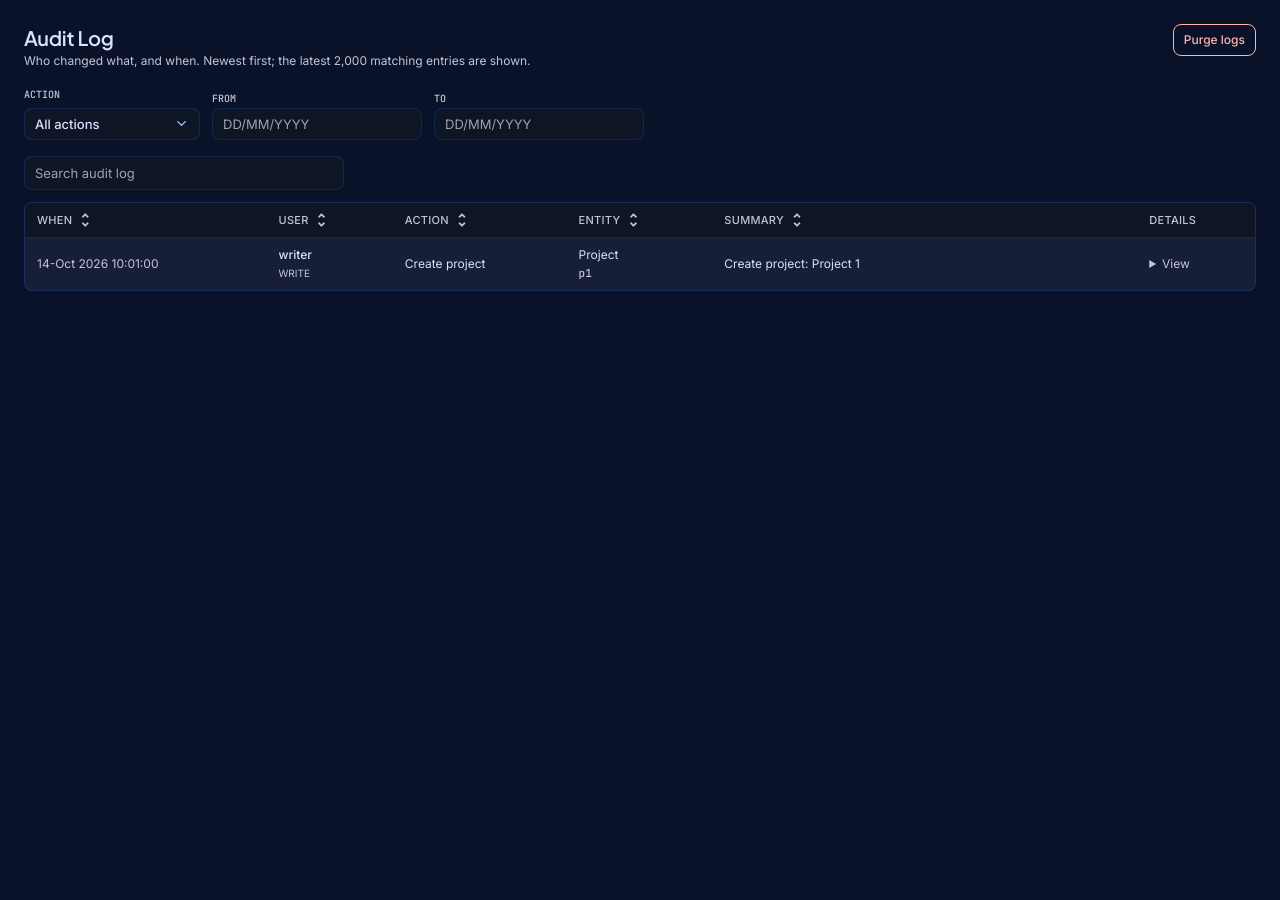
Test: AuditLogPage › purges the dates chosen in the dialog
Check: the text "Create project: Project 1" is shown, box [712,238,1137,290]
Click the button "Purge logs" at (1214,40), box [1173,24,1256,56]
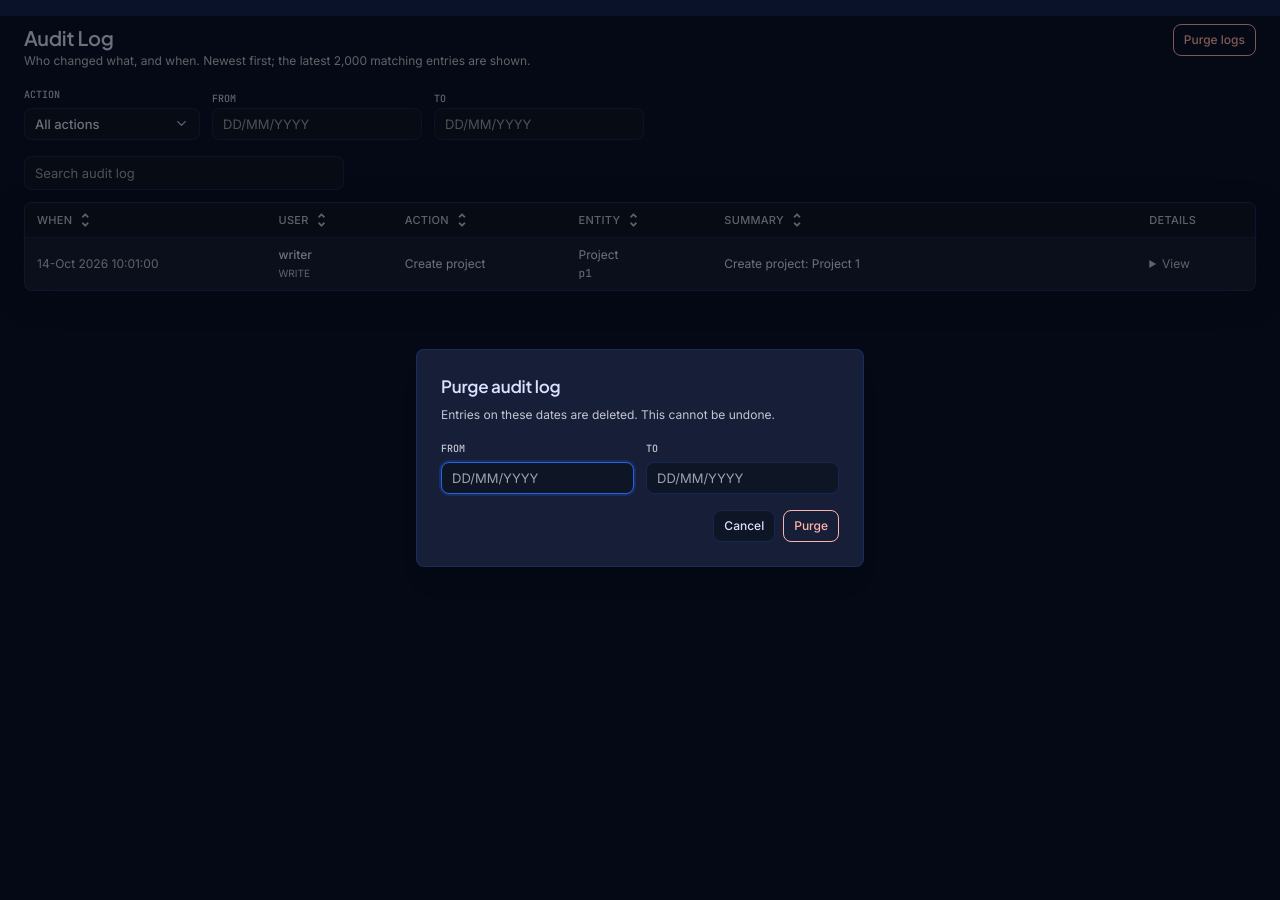
Click the button "Purge" at (811,526), box [783,510,839,542]
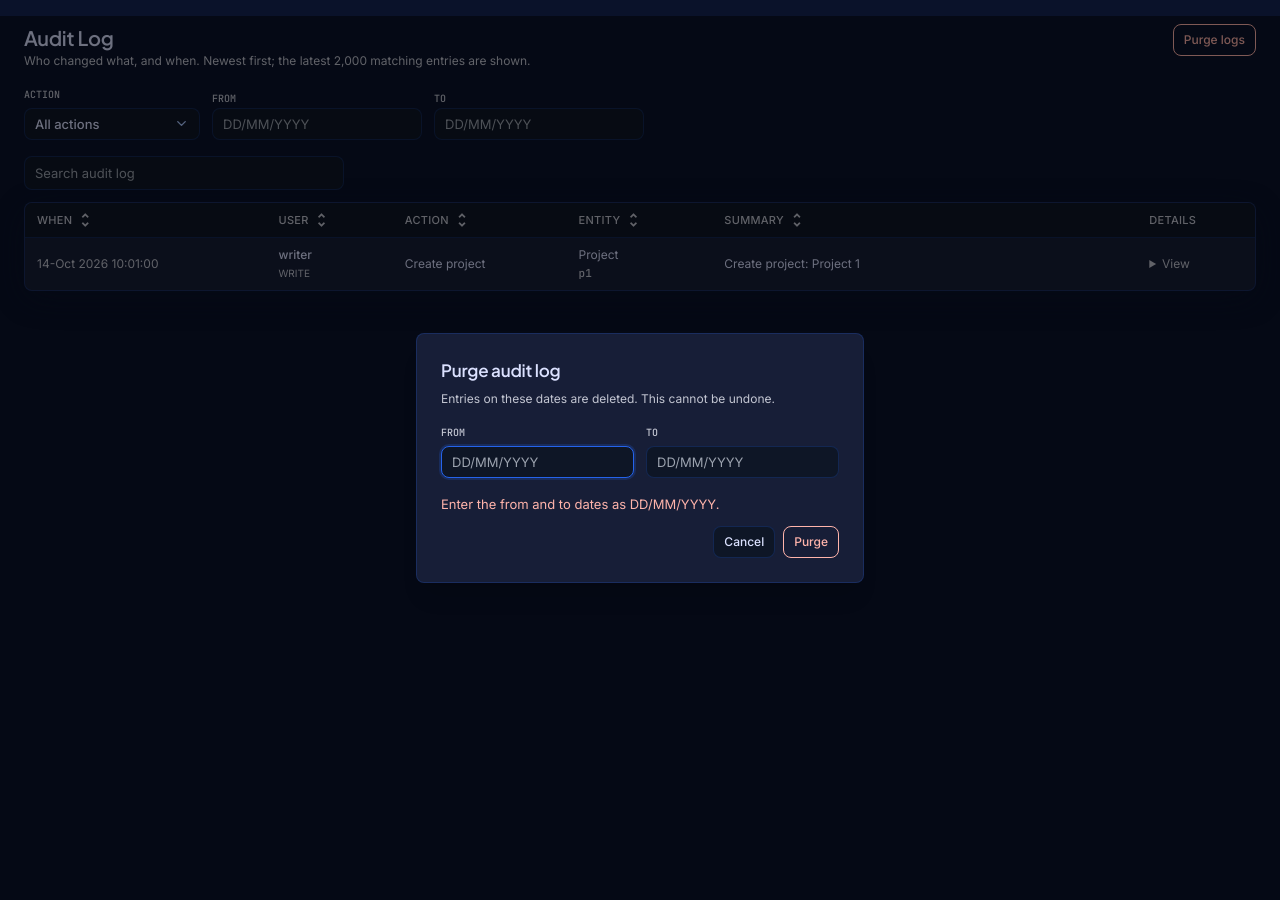
Check: the text "Enter the from and to dates as DD/MM/YYYY." is shown, box [441,496,719,512]
Type "14/10/2026" into the field named "Purge from" at (538,462), box [441,446,634,478]
Type "01/10/2026" into the field named "Purge to" at (742,462), box [646,446,839,478]
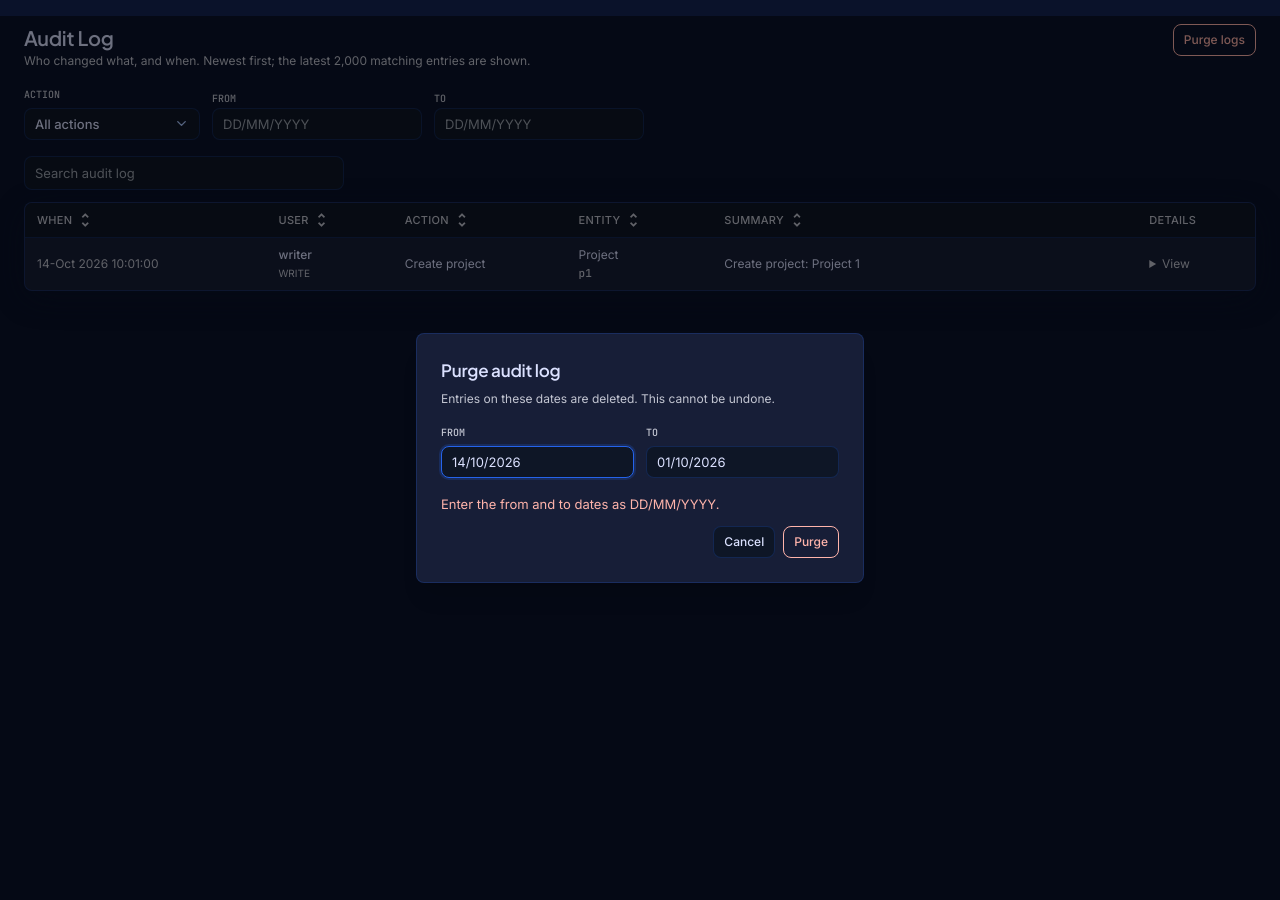
Click the button "Purge" at (811,542), box [783,526,839,558]
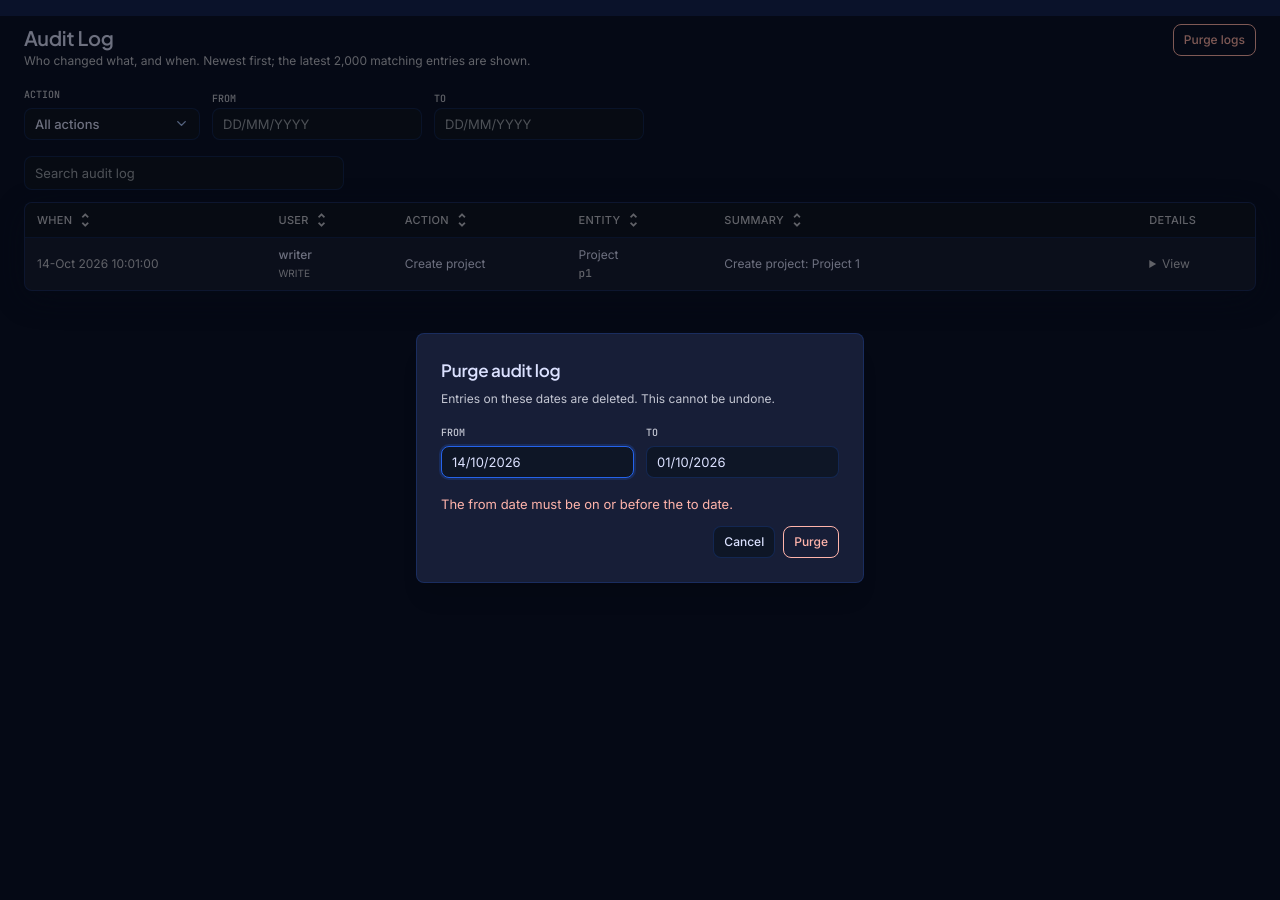
Check: the text "The from date must be on or before the to date." is shown, box [441,496,733,512]
Replace the text in the field named "Purge to" with "14/10/2026" at (742,462), box [646,446,839,478]
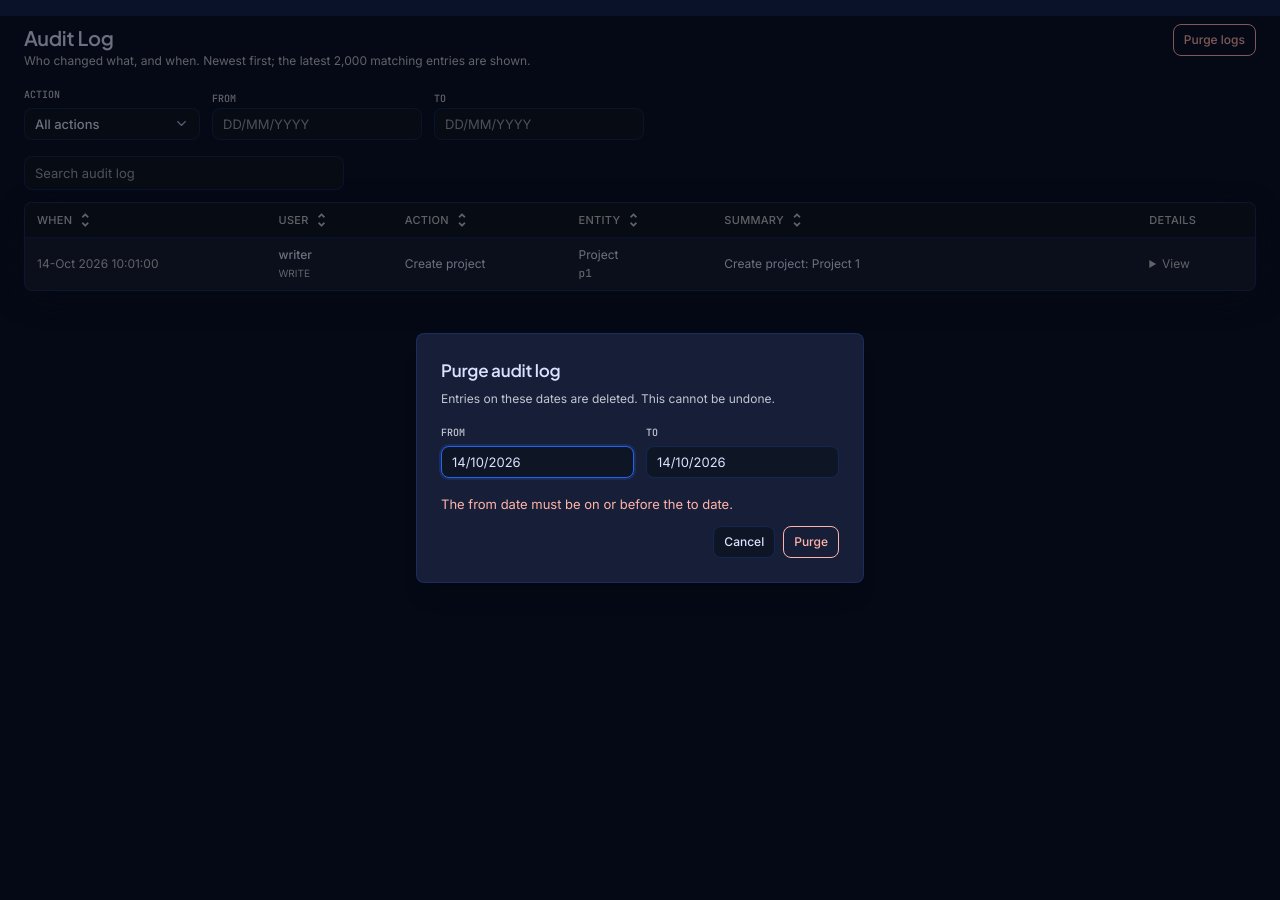
Click the button "Purge" at (811,542), box [783,526,839,558]
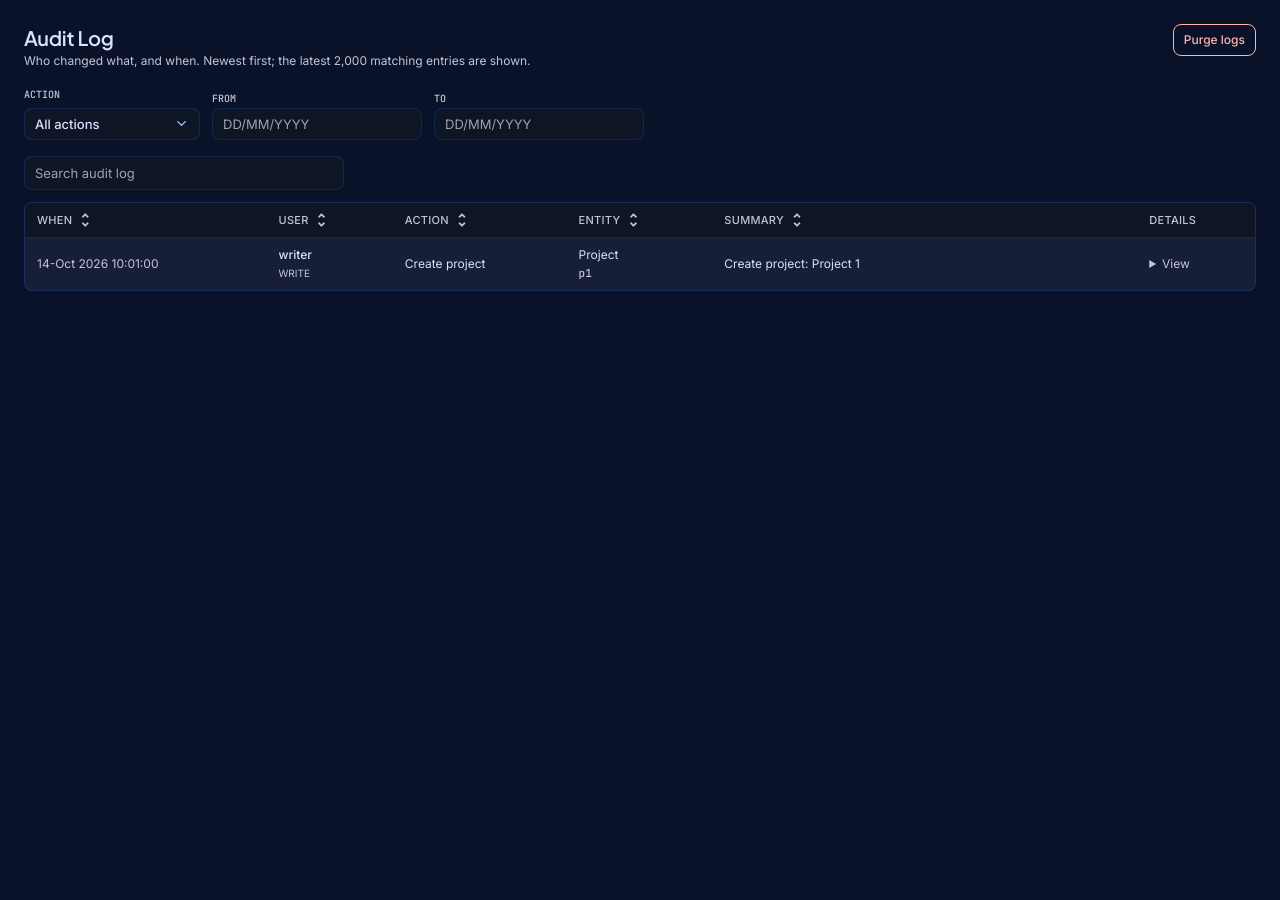
Check: the heading "Purge audit log" is gone
